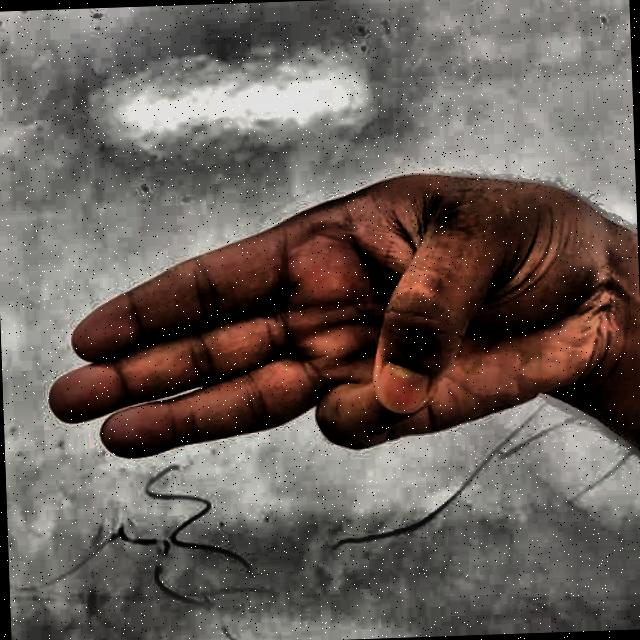Ma: (24, 142, 620, 516)
